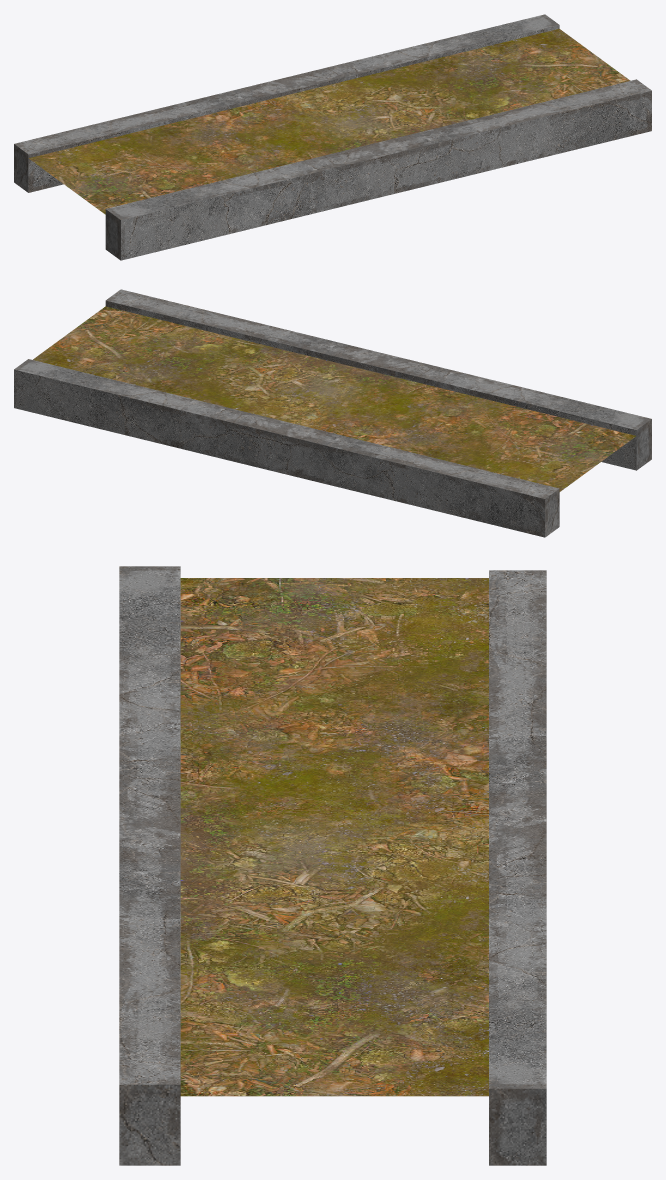
The model's file is HH_Concrete_Island_Ground_1.5x4m.fbx.
3 renders of one model, top to bottom at view 1: azimuth 30°, elevation 25°; view 2: azimuth 150°, elevation 25°; view 3: azimuth 270°, elevation 25°, orthographic. The views are drawn at different scales.
Visible parts, largest first — view 1: HH_Concrete_Island_Ground_1.5x4m; view 2: HH_Concrete_Island_Ground_1.5x4m; view 3: HH_Concrete_Island_Ground_1.5x4m.
Part boxes in pixels (bbox=[...]): HH_Concrete_Island_Ground_1.5x4m: bbox=[14, 14, 651, 260]; HH_Concrete_Island_Ground_1.5x4m: bbox=[14, 289, 651, 537]; HH_Concrete_Island_Ground_1.5x4m: bbox=[119, 566, 546, 1165].
Size of the model in its own units: 400 by 29.16 by 139.
